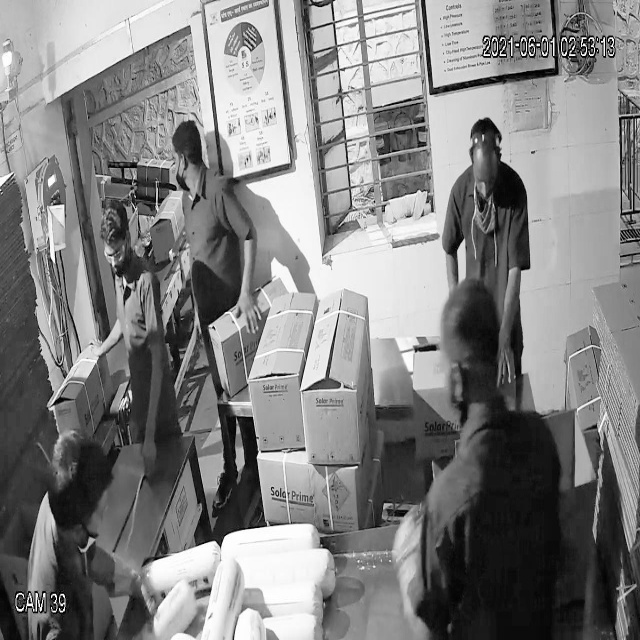Gafas: (97, 236, 136, 271)
